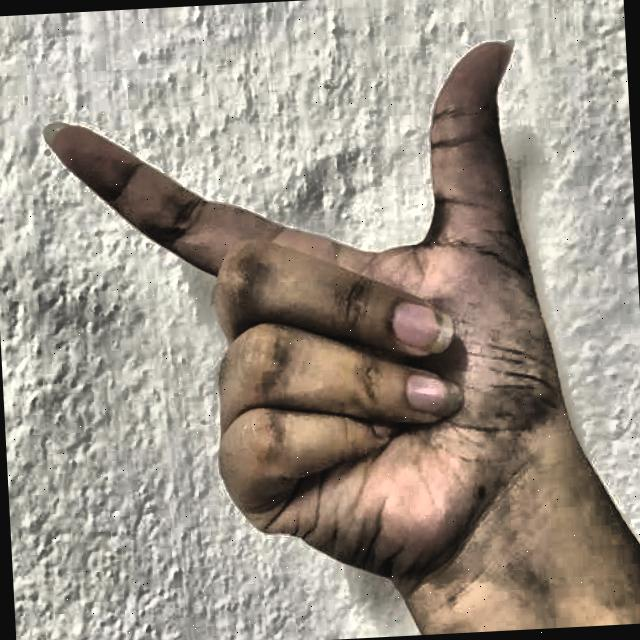ChandraBindu: (25, 5, 588, 633)
